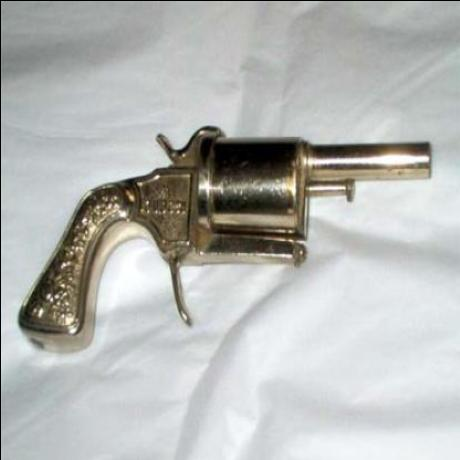weapon: (14, 121, 434, 362)
